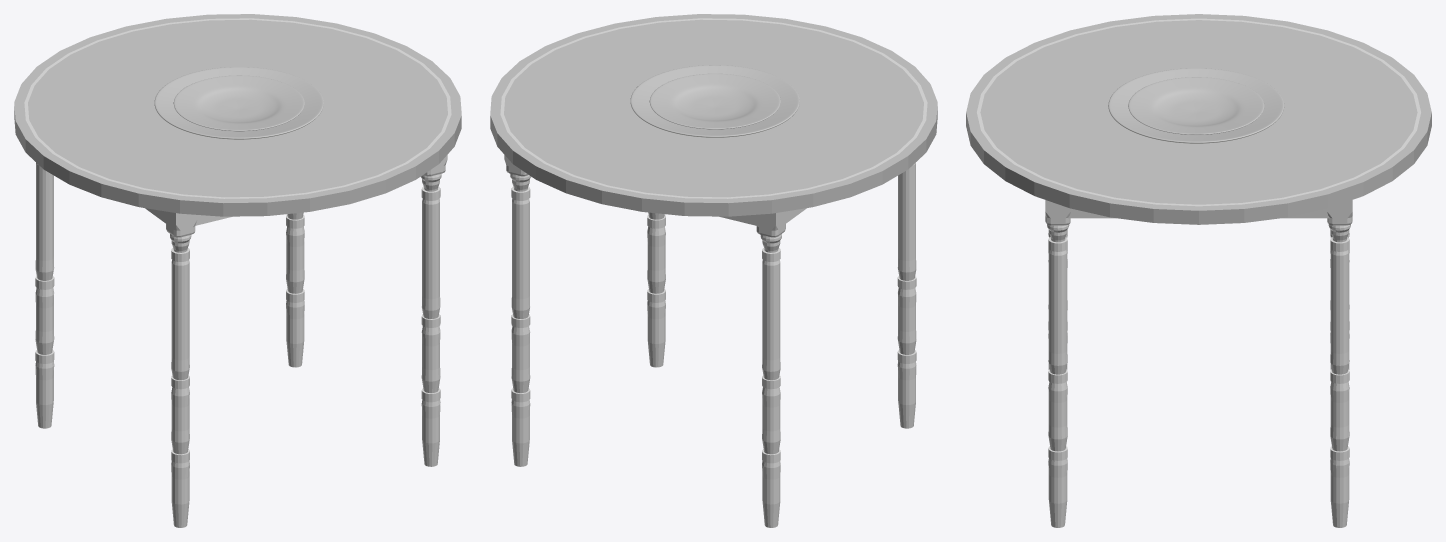
The model's file is mesaverde_platos.fbx.
3 renders of one model, left to right at view 1: azimuth 30°, elevation 25°; view 2: azimuth 150°, elevation 25°; view 3: azimuth 270°, elevation 25°, orthographic. The views are drawn at different scales.
Visible parts, largest first — view 1: Cilindro, Cubo.001, Circle005, Circle031, Anillo, Esquinas; view 2: Cilindro, Cubo.001, Circle005, Circle031, Anillo, Esquinas; view 3: Cilindro, Cubo.001, Circle005, Circle031, Anillo, Esquinas, Soporte inferior 2.
Boxes of the visible parts, x1,y1,x2,y2 form: Cilindro: (14, 14, 461, 216); Cubo.001: (35, 162, 441, 527); Circle005: (173, 75, 304, 131); Circle031: (154, 67, 323, 139); Anillo: (35, 186, 440, 463); Esquinas: (164, 155, 447, 237); Cilindro: (490, 14, 937, 216); Cubo.001: (510, 162, 916, 527); Circle005: (649, 73, 780, 129); Circle031: (630, 65, 799, 137); Anillo: (511, 186, 916, 463); Esquinas: (504, 155, 787, 237); Cilindro: (966, 14, 1431, 224); Cubo.001: (1047, 224, 1350, 527); Circle005: (1128, 77, 1264, 134); Circle031: (1108, 68, 1284, 143); Anillo: (1048, 237, 1349, 460); Esquinas: (1045, 200, 1352, 225); Soporte inferior 2: (1068, 208, 1329, 218).
Size of the model in its own units: 60 by 60 by 50.68.
